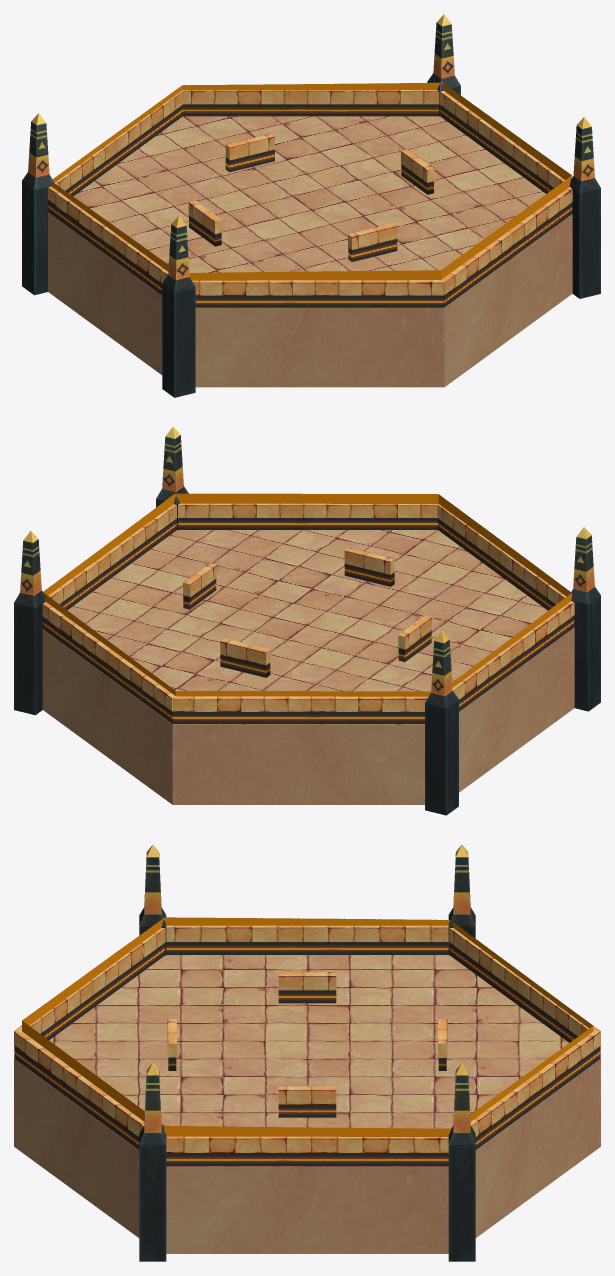
The model's file is Boss_Stage 6 Variant.fbx.
3 views of the same model, one above another, from view 1: azimuth 30°, elevation 25°; view 2: azimuth 150°, elevation 25°; view 3: azimuth 270°, elevation 25° (orthographic). The views are drawn at different scales.
Parts seen in each view (by area): view 1: hexa_platform, CR_Platform_Cube.081, CR_Platform_Cube.034, Plane.195; view 2: hexa_platform, CR_Platform_Cube.081, CR_Platform_Cube.034, Plane.195; view 3: hexa_platform, CR_Platform_Cube.081, CR_Platform_Cube.034, Plane.195.
Boxes of the visible parts, box(x1,y1,x2,y2) form: hexa_platform: box(48, 116, 572, 387); CR_Platform_Cube.081: box(48, 90, 572, 307); CR_Platform_Cube.034: box(22, 14, 600, 397); Plane.195: box(50, 82, 571, 280); hexa_platform: box(42, 530, 574, 804); CR_Platform_Cube.081: box(42, 503, 574, 723); CR_Platform_Cube.034: box(14, 427, 600, 815); Plane.195: box(43, 493, 571, 696); hexa_platform: box(14, 955, 600, 1253); CR_Platform_Cube.081: box(14, 925, 600, 1165); CR_Platform_Cube.034: box(139, 845, 475, 1261); Plane.195: box(22, 917, 593, 1136).
Bounding box in the file's own units: 5626 × 2230 × 6079.
